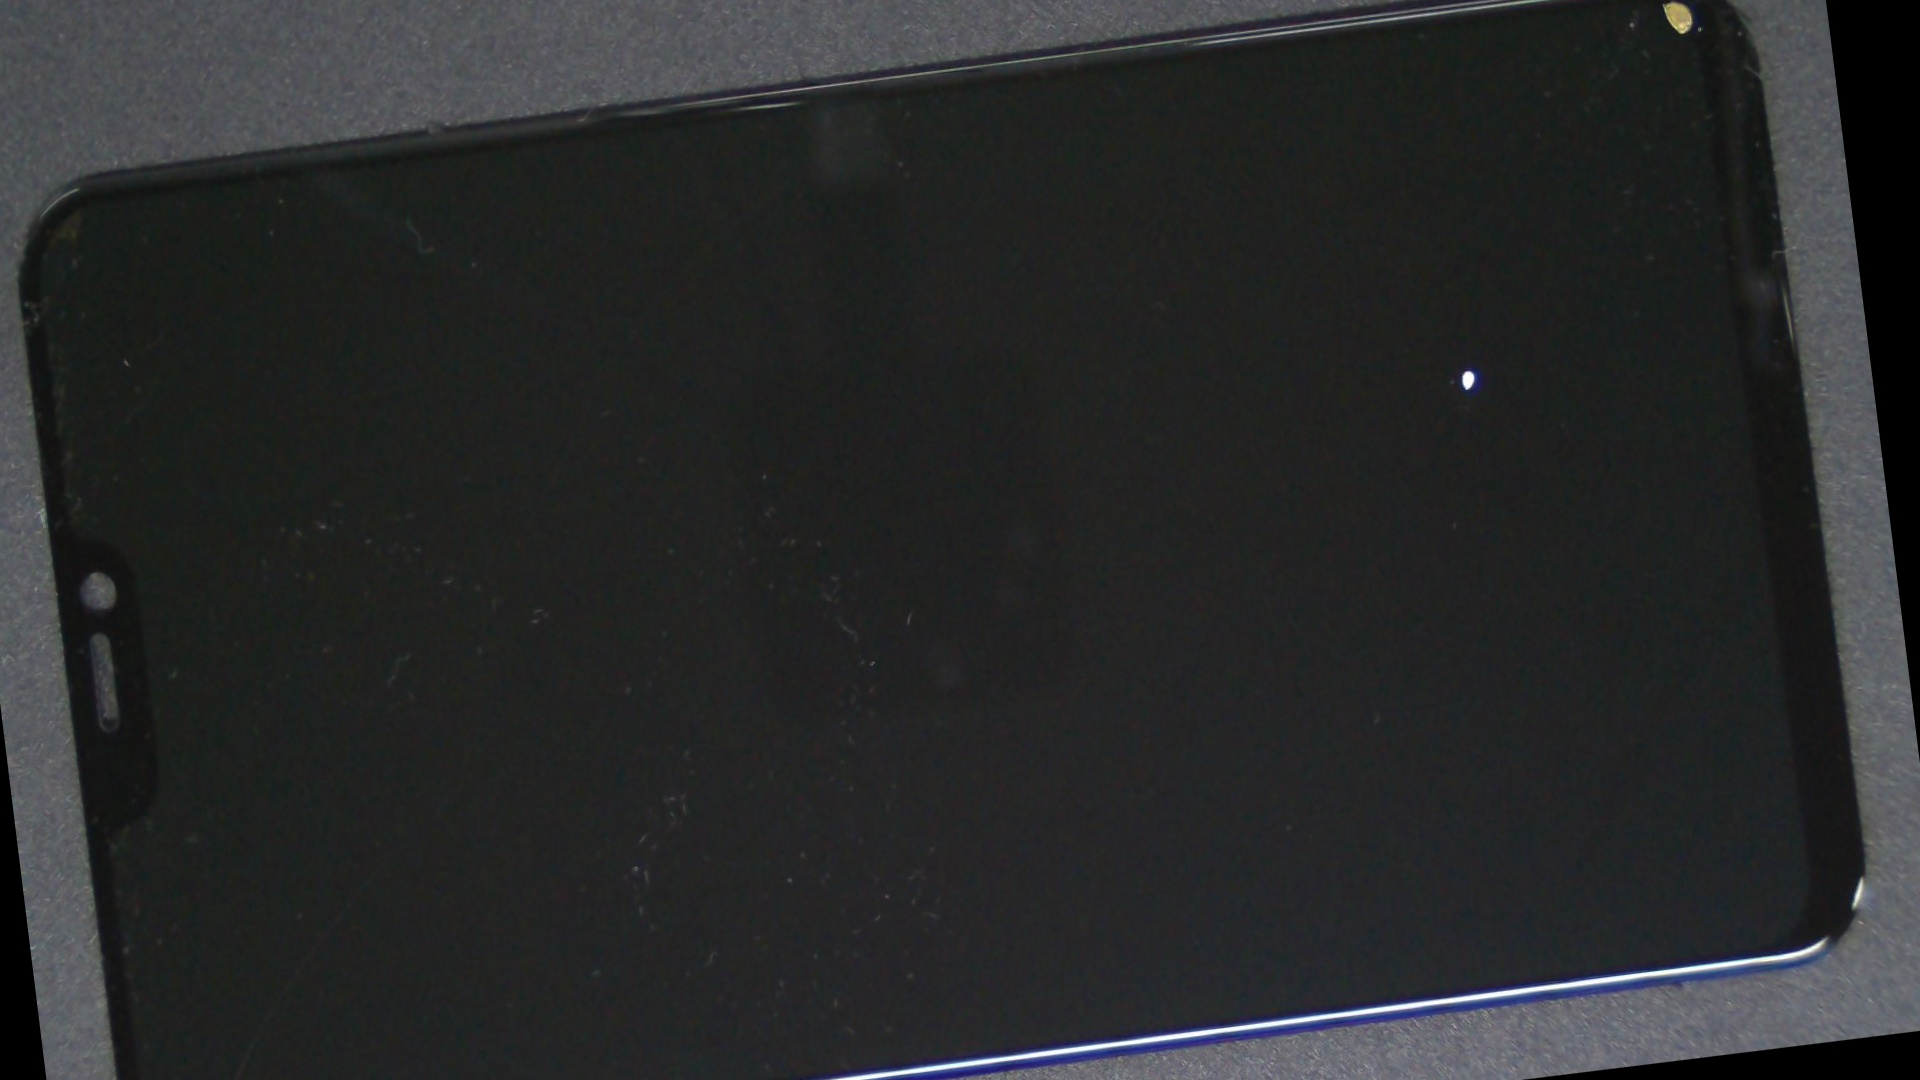oil: (690, 36, 1900, 744), (793, 0, 1837, 216)
